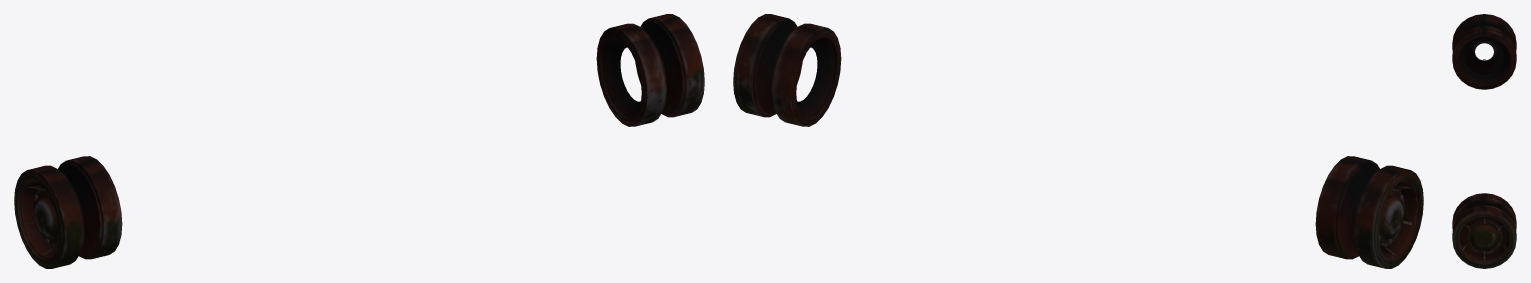
File: small_wheels_0.gltf
The picture shows the model from 3 angles, left to right: view 1: azimuth 30°, elevation 25°; view 2: azimuth 150°, elevation 25°; view 3: azimuth 270°, elevation 25°; orthographic projection. The views are drawn at different scales.
Visible parts, largest first — view 1: wheels; view 2: wheels; view 3: wheels.
Boxes of the visible parts, <box> form: wheels: <box>14,14,704,268</box>; wheels: <box>733,14,1423,268</box>; wheels: <box>1452,14,1516,268</box>.
Bounding box in the file's own units: 0.5094 × 0.07 × 0.07.
1 material, 1 textured.
